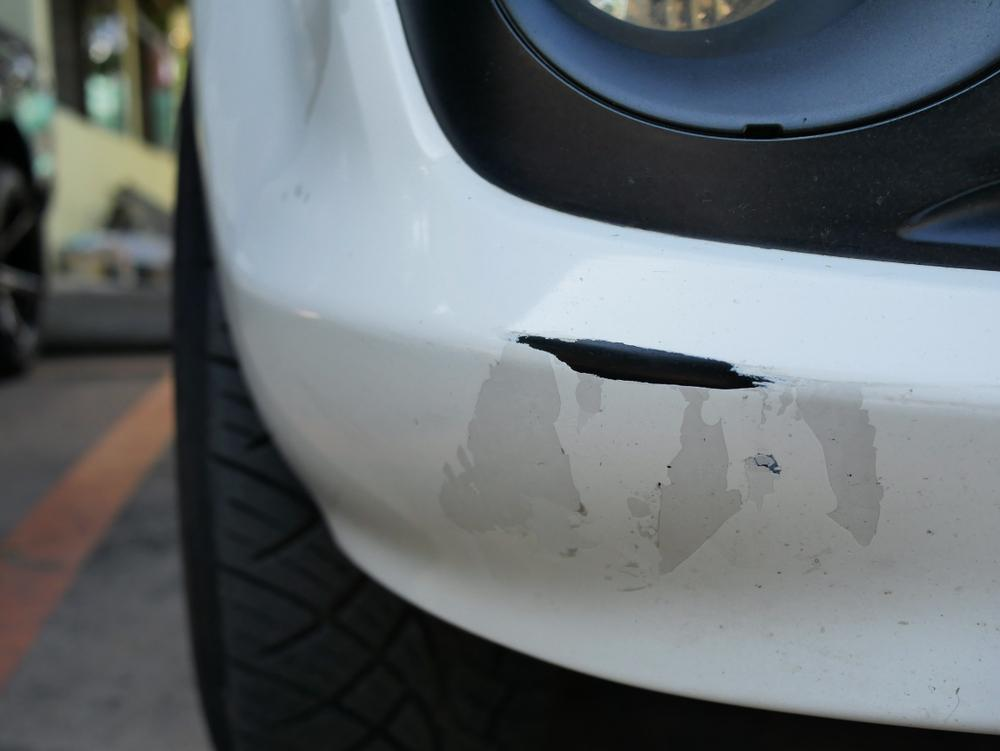scratch: (507, 329, 781, 403)
